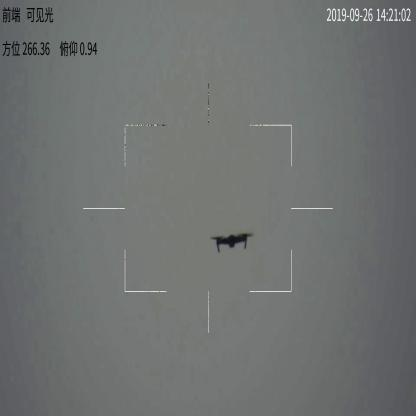uav: (208, 228, 253, 256)
